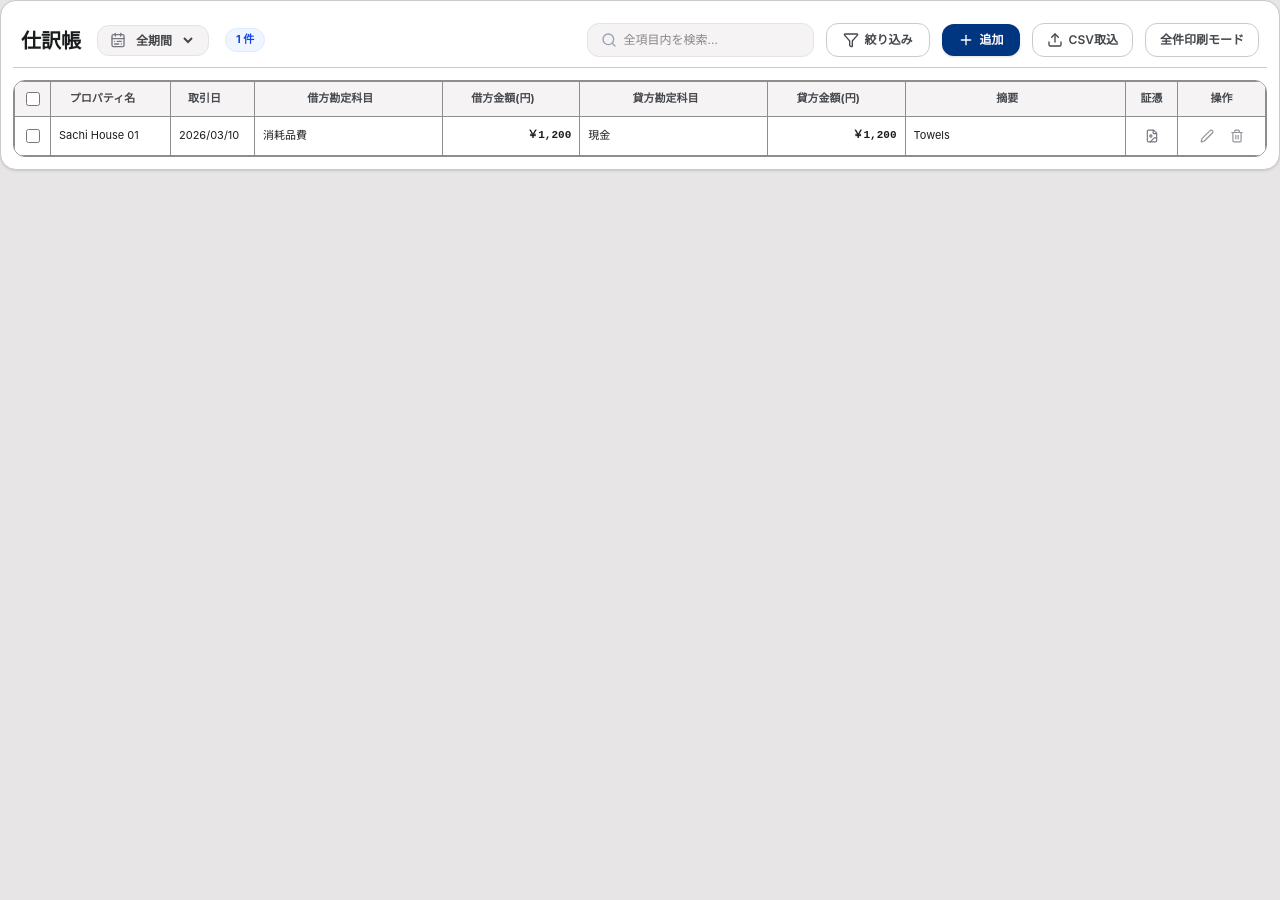
Scenario: Journal edit modal: change property of existing transaction › shows a property select preselected with the entry property
Click the button titled "編集": {"x": 1206, "y": 136} [1194,123,1220,149]
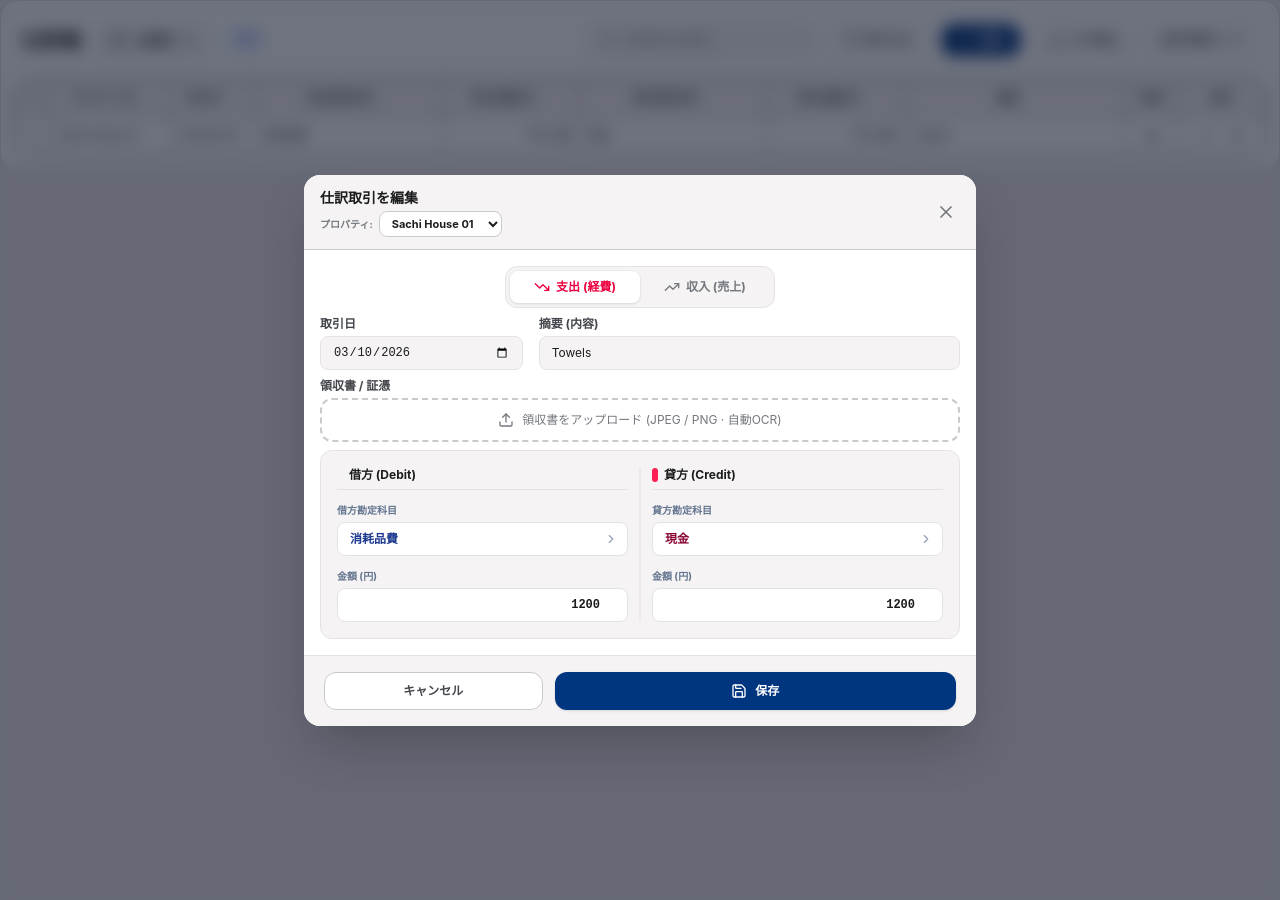
Expected: the dropdown shows "Sachi House 01", [379,210,502,236]
